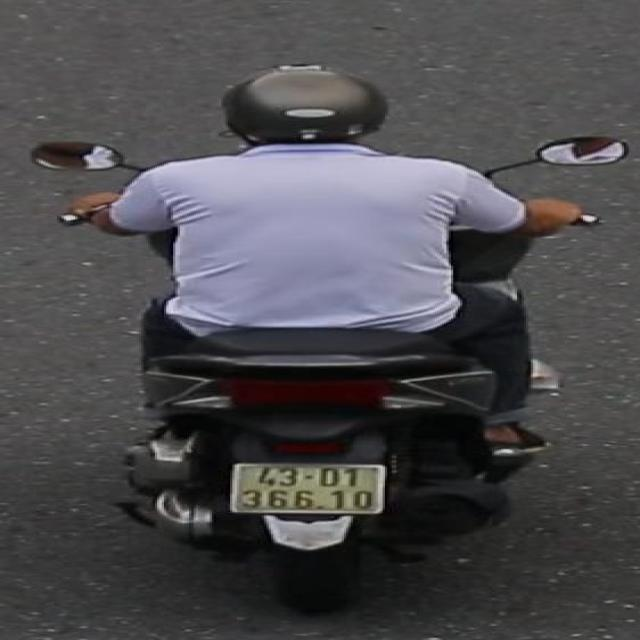LP: (225, 457, 392, 521)
helmet: (197, 59, 423, 164)
